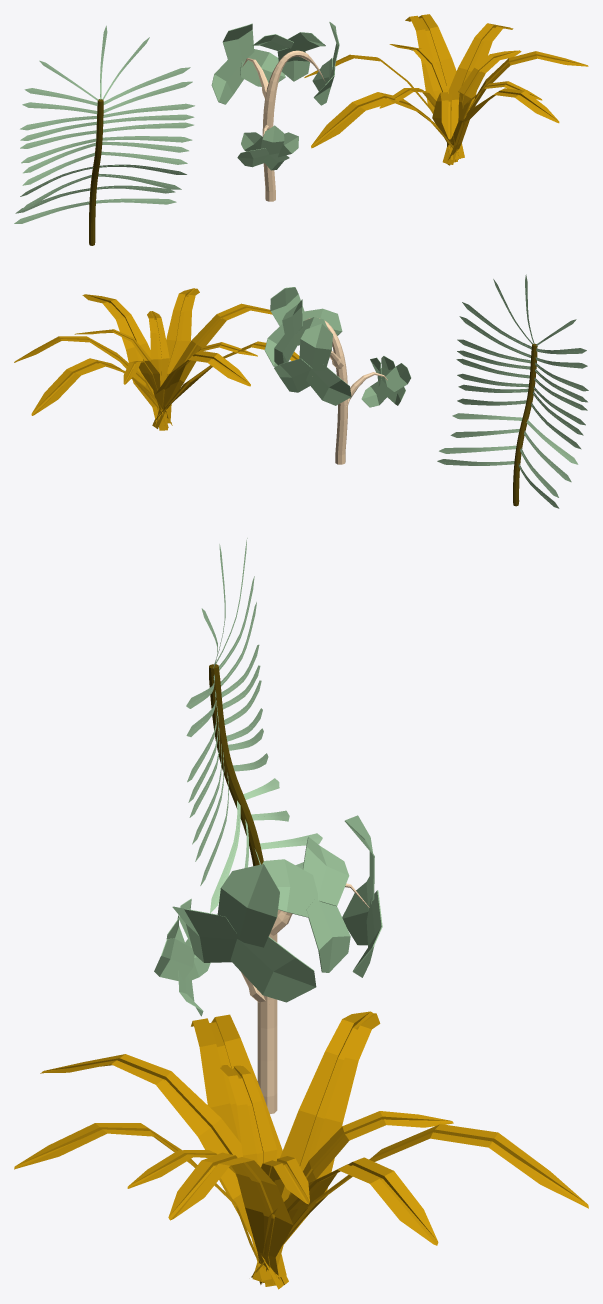
The model's file is Moreplants_Dviolante.fbx.
3 renders of one model, top to bottom at view 1: azimuth 30°, elevation 25°; view 2: azimuth 150°, elevation 25°; view 3: azimuth 270°, elevation 25°, orthographic. The views are drawn at different scales.
Parts seen in each view (by area): view 1: pPlane1 (×4), pPlane2 (×3), pPlane6, pPlane7, pPlane3 (×2), pPlane12, pCylinder1, pPlane10, pPlane8, pCylinder4, pPlane15, pPlane9 (+26 smaller); view 2: pPlane3 (×4), pPlane2 (×3), pPlane8, pPlane1 (×3), pPlane10, pPlane9, pPlane6, pPlane11, pPlane16, pCylinder1, pCylinder4, pPlane12 (+17 smaller); view 3: pPlane2 (×3), pPlane11, pPlane1 (×3), pPlane9, pPlane10, pPlane7, pPlane3 (×2), pPlane6, pPlane12, pPlane13, pPlane14, pCylinder4 (+5 smaller).
Part boxes in pixels (x1,y1,x2,y2): pPlane1 (×4): [240, 34, 332, 154]; pPlane2 (×3): [211, 32, 325, 167]; pPlane6: [405, 14, 464, 159]; pPlane7: [311, 92, 453, 148]; pPlane3 (×2): [222, 23, 309, 81]; pPlane12: [442, 23, 513, 164]; pCylinder1: [262, 50, 324, 201]; pPlane10: [432, 92, 463, 146]; pPlane8: [448, 88, 559, 160]; pCylinder4: [89, 99, 103, 245]; pPlane15: [446, 50, 521, 165]; pPlane9: [466, 51, 588, 115]; pPlane3 (×4): [274, 308, 386, 407]; pPlane2 (×3): [270, 287, 351, 405]; pPlane8: [166, 288, 199, 423]; pPlane1 (×3): [264, 317, 327, 392]; pPlane10: [152, 303, 272, 428]; pPlane9: [82, 294, 157, 423]; pPlane6: [31, 358, 168, 417]; pPlane11: [155, 350, 250, 417]; pPlane16: [147, 311, 169, 430]; pCylinder1: [305, 318, 347, 464]; pCylinder4: [513, 344, 537, 506]; pPlane12: [14, 336, 172, 425]; pPlane2 (×3): [216, 859, 371, 947]; pPlane11: [252, 1011, 380, 1284]; pPlane1 (×3): [230, 837, 382, 1002]; pPlane9: [168, 1152, 293, 1278]; pPlane10: [40, 1054, 288, 1289]; pPlane7: [191, 1014, 286, 1280]; pPlane3 (×2): [172, 897, 350, 972]; pPlane6: [251, 1124, 588, 1276]; pPlane12: [251, 1157, 438, 1277]; pPlane13: [220, 1065, 280, 1286]; pPlane14: [259, 1111, 453, 1284]; pCylinder4: [209, 664, 263, 866].
Size of the model in its own units: 15.47 by 6.4 by 7.82.
